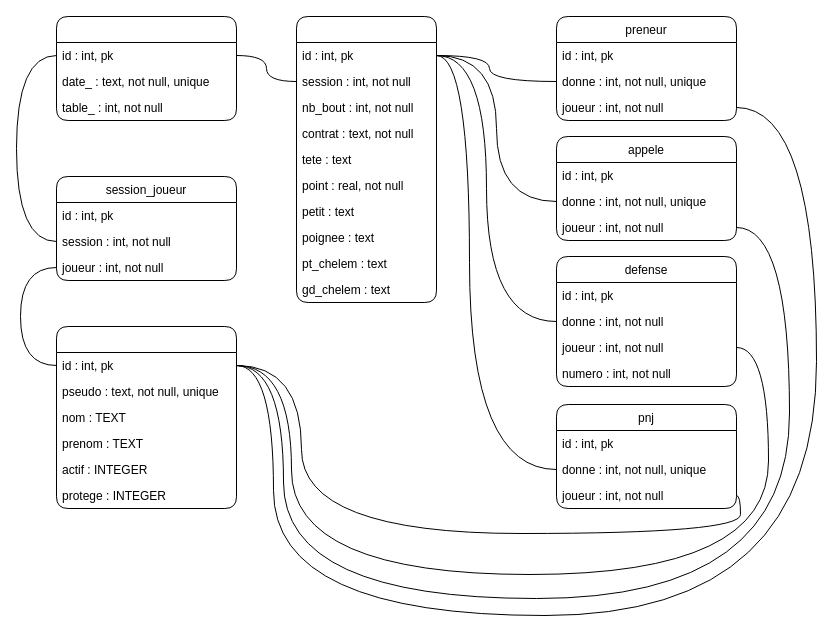
Some shapes in this 833 by 632 pixel diagram are drawn without their labels. The shapes that lost their labels are listed below. From the top down, each one's box as (x1, y1, x2, y2) in pixels, then its label:
(56, 16, 236, 120): session
(296, 16, 436, 302): donne
(56, 326, 236, 508): joueur
